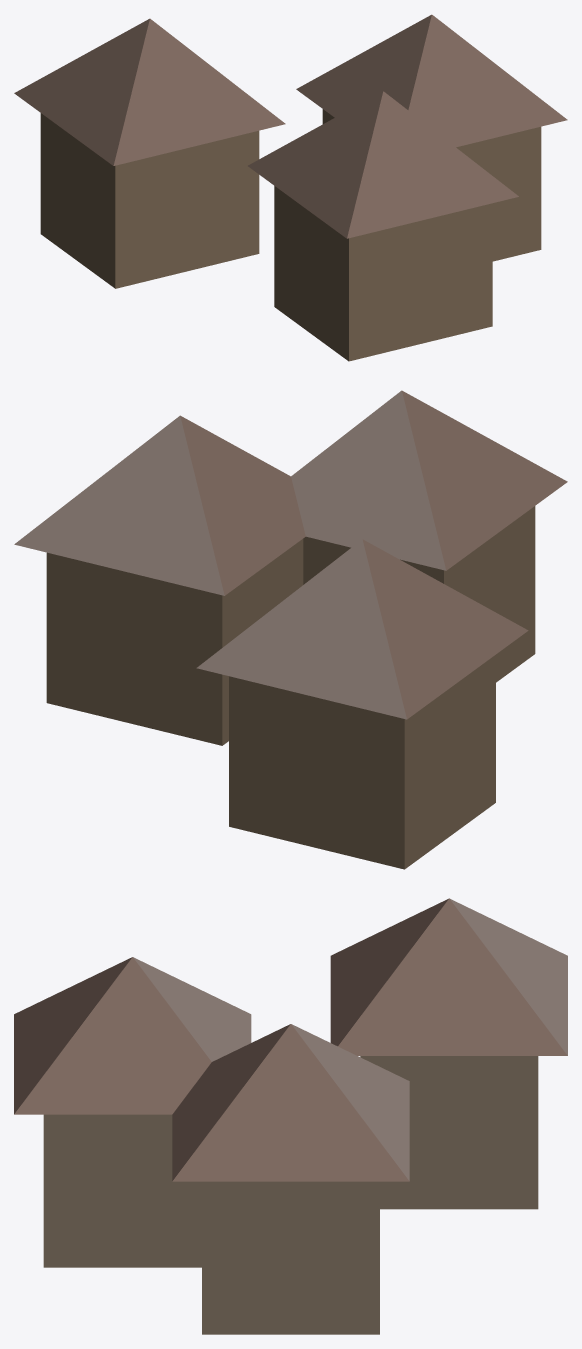
The model's file is hamlet.gltf.
3 views of the same model, one above another, from view 1: azimuth 30°, elevation 25°; view 2: azimuth 150°, elevation 25°; view 3: azimuth 270°, elevation 25° (orthographic). The views are drawn at different scales.
Visible parts, largest first — view 1: building-hamlet; view 2: building-hamlet; view 3: building-hamlet.
Boxes of the visible parts, bbox=[...] form: building-hamlet: bbox=[14, 14, 567, 361]; building-hamlet: bbox=[14, 390, 567, 869]; building-hamlet: bbox=[14, 898, 567, 1334].
Size of the model in its own units: 0.54 by 0.3 by 0.56.
